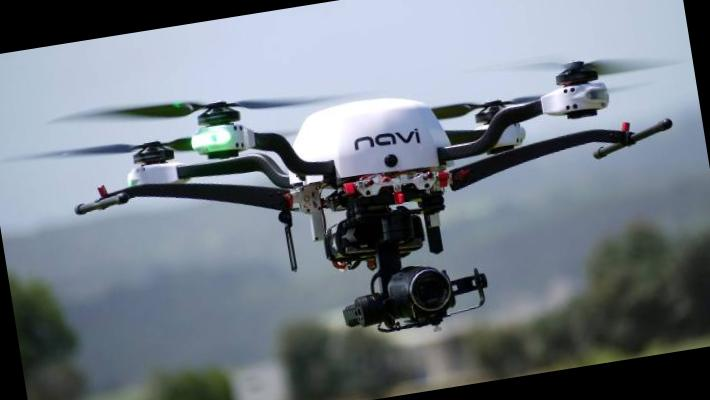drone: (12, 0, 704, 314)
